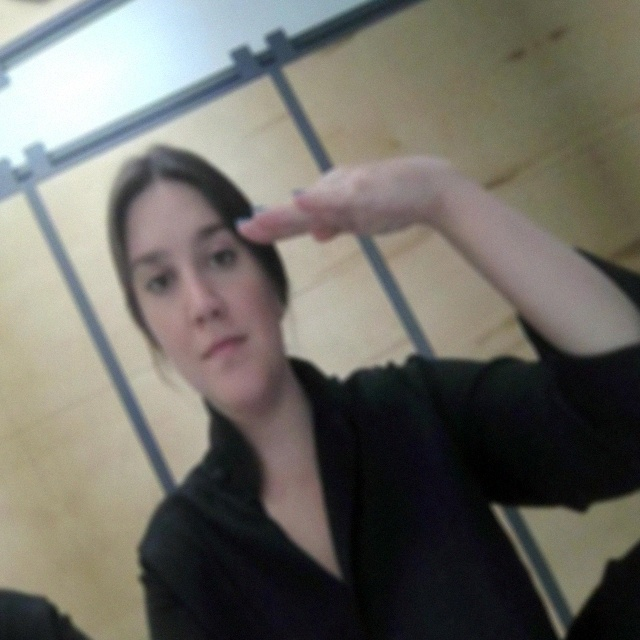Paper: (223, 117, 458, 314)
